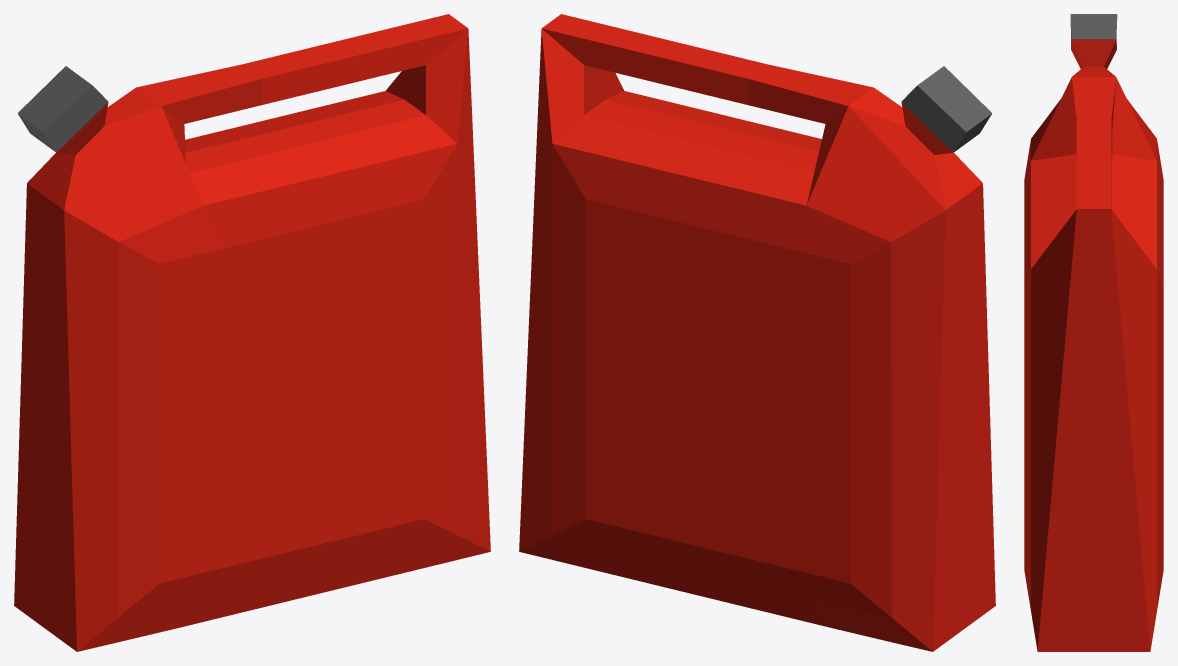
The model's file is fuel.fbx.
3 views of the same model, side by side, from view 1: azimuth 30°, elevation 25°; view 2: azimuth 150°, elevation 25°; view 3: azimuth 270°, elevation 25° (orthographic). The views are drawn at different scales.
Visible parts, largest first — view 1: fuel.001; view 2: fuel.001; view 3: fuel.001.
Boxes of the visible parts, box(x1,y1,x2,y2) form: fuel.001: box(14, 14, 490, 651); fuel.001: box(519, 14, 995, 651); fuel.001: box(1024, 14, 1163, 651).
Size of the model in its own units: 42.1 by 51.22 by 13.55.
Materials: 1 (1 with a texture image).
